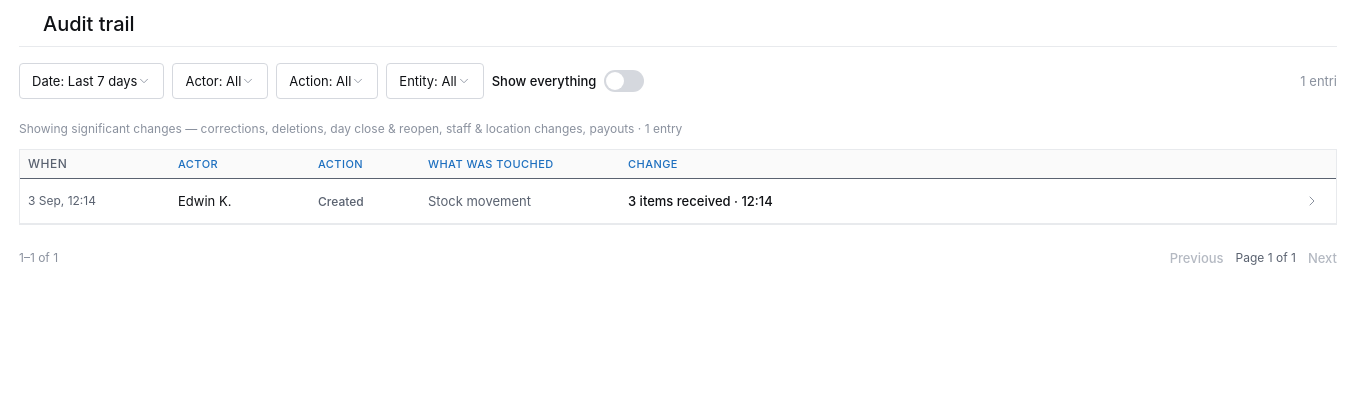
Test: /admin/audit-trail › renders a batch as one summary row that expands to the member rows
The width and height of the screenshot is (1357, 396).
Expected: the text "3 items received · 12:14" is shown, [628,193,773,209]
Expected: the text "Stock movement · receipt · Rice @ Store" is not shown
Click the row named "3 items received · 12:14 — 3 rows" at (674, 201), box [28,193,1320,209]
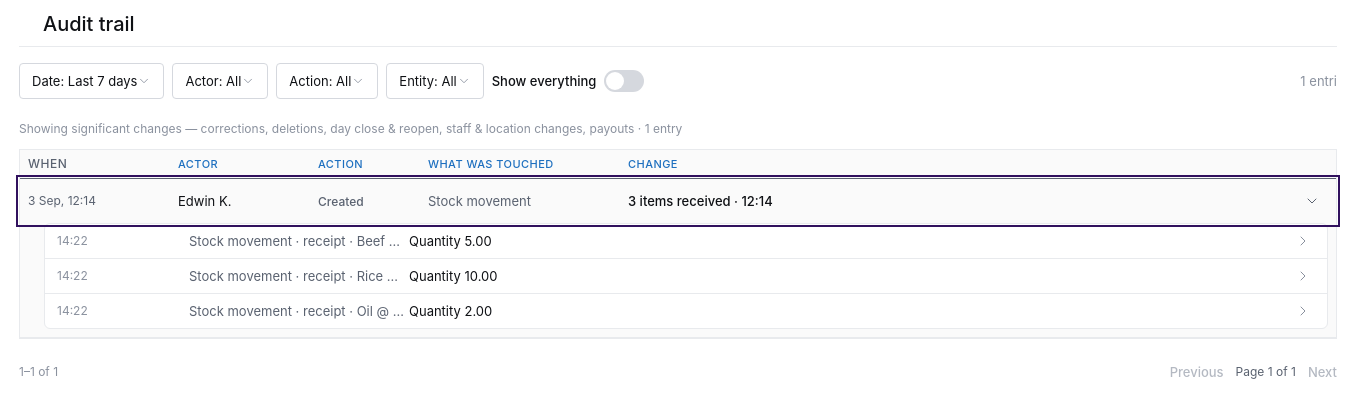
Result: the text "Stock movement · receipt · Rice @ Store" is shown at [189,267,409,285]
Result: the text "Stock movement · receipt · Oil @ Store" is shown at [189,302,409,320]
